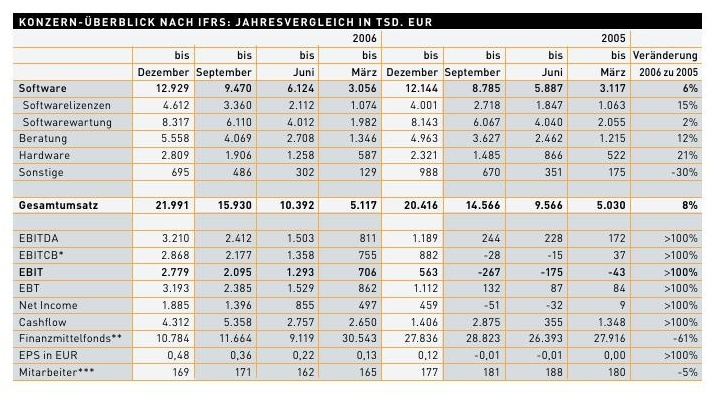table: (0, 0, 714, 393)
